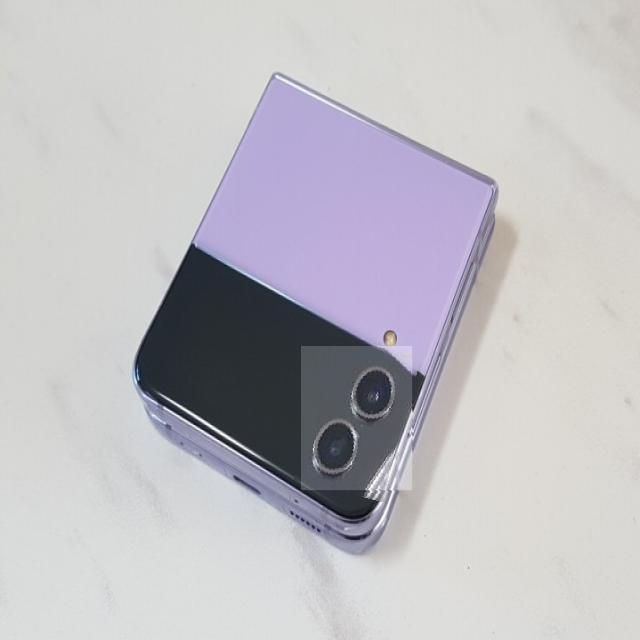lens: (309, 362, 399, 477)
phone: (140, 73, 496, 564)
